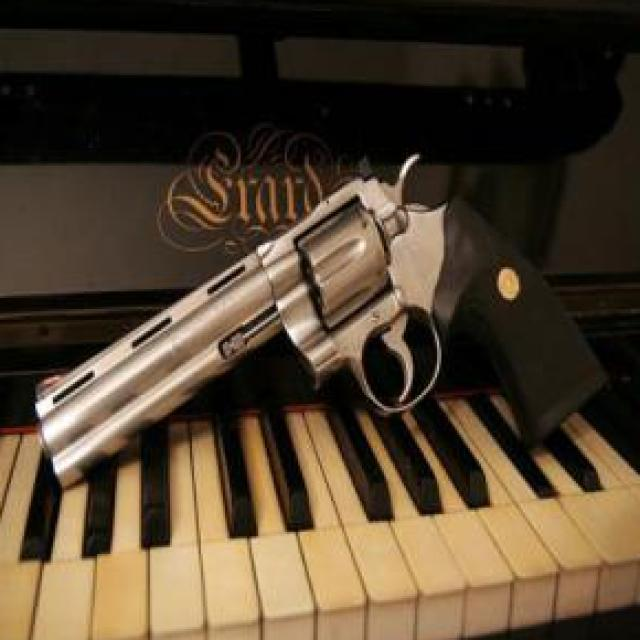pistol: (36, 152, 612, 490)
